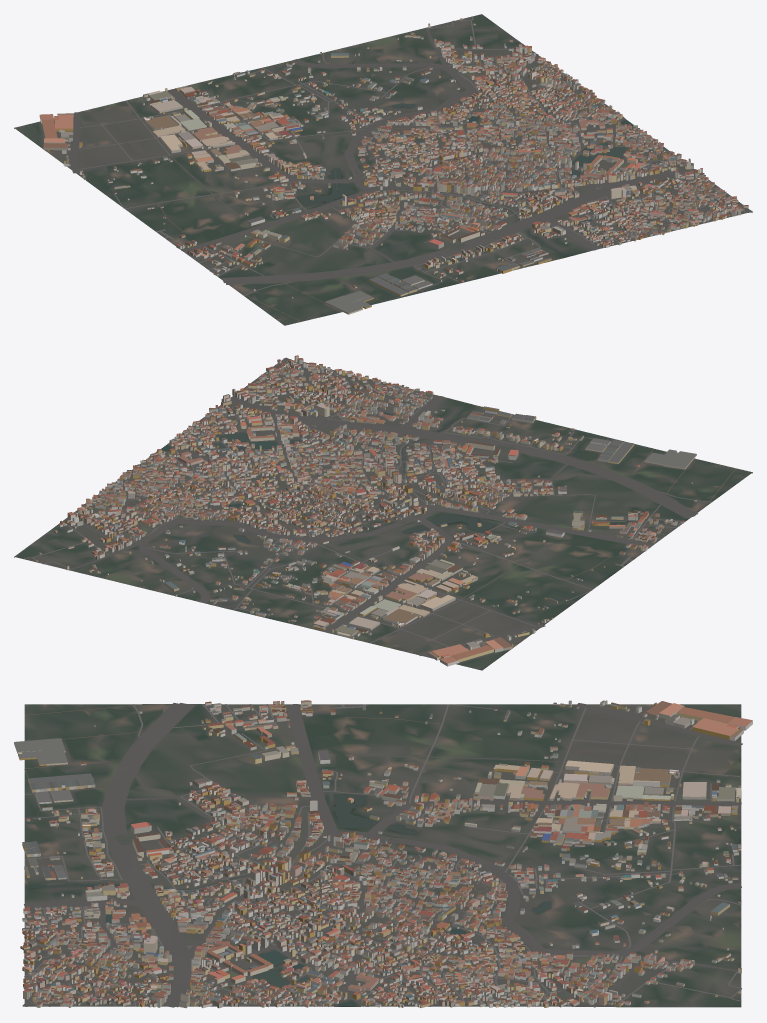
3 renders of one model, top to bottom at view 1: azimuth 30°, elevation 25°; view 2: azimuth 150°, elevation 25°; view 3: azimuth 270°, elevation 25°, orthographic. The views are drawn at different scales.
Parts seen in each view (by area): view 1: ground, buildings, roads, water; view 2: ground, buildings, roads, water; view 3: ground, buildings, roads, water.
Boxes of the visible parts, x1,y1,x2,y2 form: ground: [14, 14, 750, 325]; buildings: [39, 18, 748, 314]; roads: [59, 16, 752, 321]; water: [263, 103, 633, 266]; ground: [14, 359, 752, 670]; buildings: [35, 355, 696, 666]; roads: [24, 357, 735, 655]; water: [161, 405, 638, 543]; ground: [24, 704, 741, 1007]; buildings: [14, 700, 752, 1008]; roads: [22, 703, 742, 1007]; water: [30, 735, 551, 1006].
Bounding box in the file's own units: 1414 × 31.05 × 1445.
